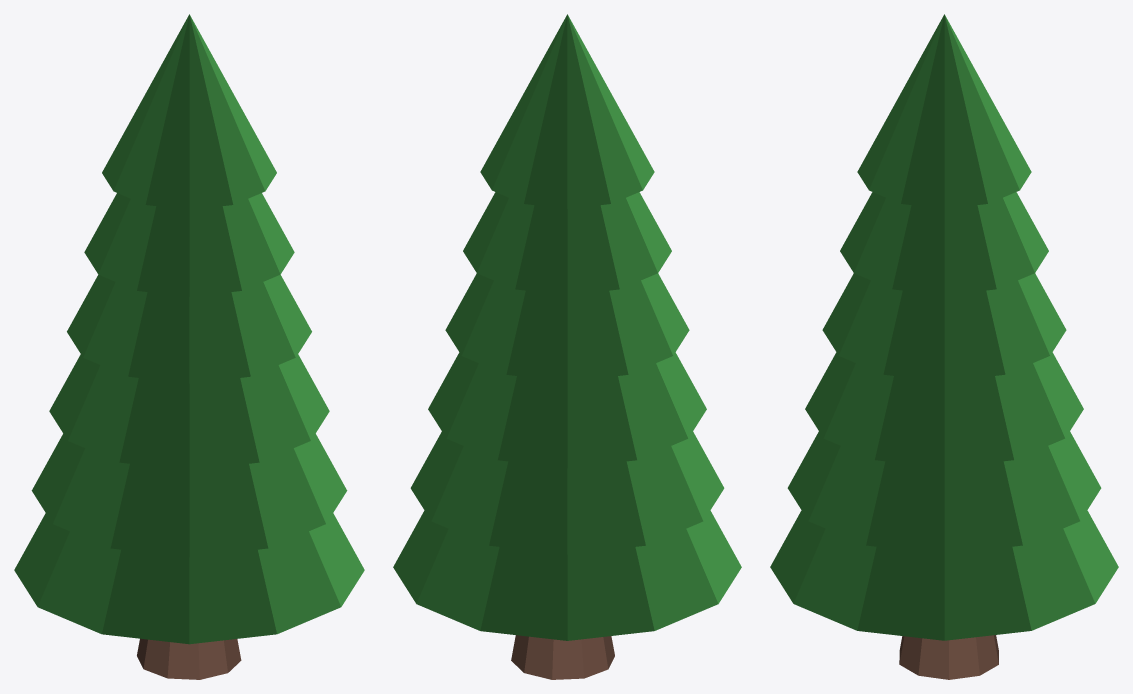
The model's file is fir-tree.glb.
The picture shows the model from 3 angles, left to right: view 1: azimuth 30°, elevation 25°; view 2: azimuth 150°, elevation 25°; view 3: azimuth 270°, elevation 25°; orthographic projection.
Parts seen in each view (by area): view 1: Node; view 2: Node; view 3: Node.
Part boxes in pixels (box(x1,y1,x2,y2)): Node: box(14, 14, 364, 679); Node: box(393, 14, 741, 679); Node: box(770, 14, 1118, 679).
Size of the model in its own units: 0.1 by 0.2034 by 0.1.
